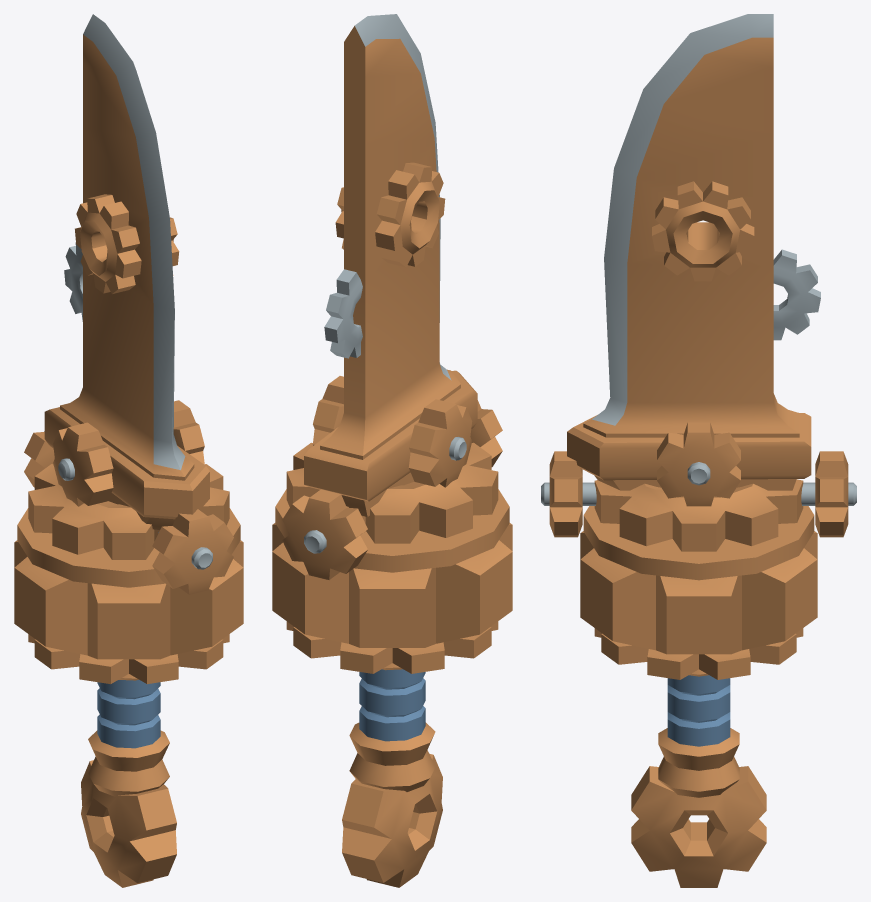
Rendered from gear_sword.gltf.glb.
3 renders of one model, left to right at view 1: azimuth 30°, elevation 25°; view 2: azimuth 150°, elevation 25°; view 3: azimuth 270°, elevation 25°, orthographic. The views are drawn at different scales.
Parts seen in each view (by area): view 1: gear_sword; view 2: gear_sword; view 3: gear_sword.
Boxes of the visible parts, x1,y1,x2,y2 form: gear_sword: (14, 14, 243, 887); gear_sword: (272, 14, 512, 887); gear_sword: (541, 14, 856, 887).
Bounding box in the file's own units: 0.4748 × 1.92 × 0.6343.
